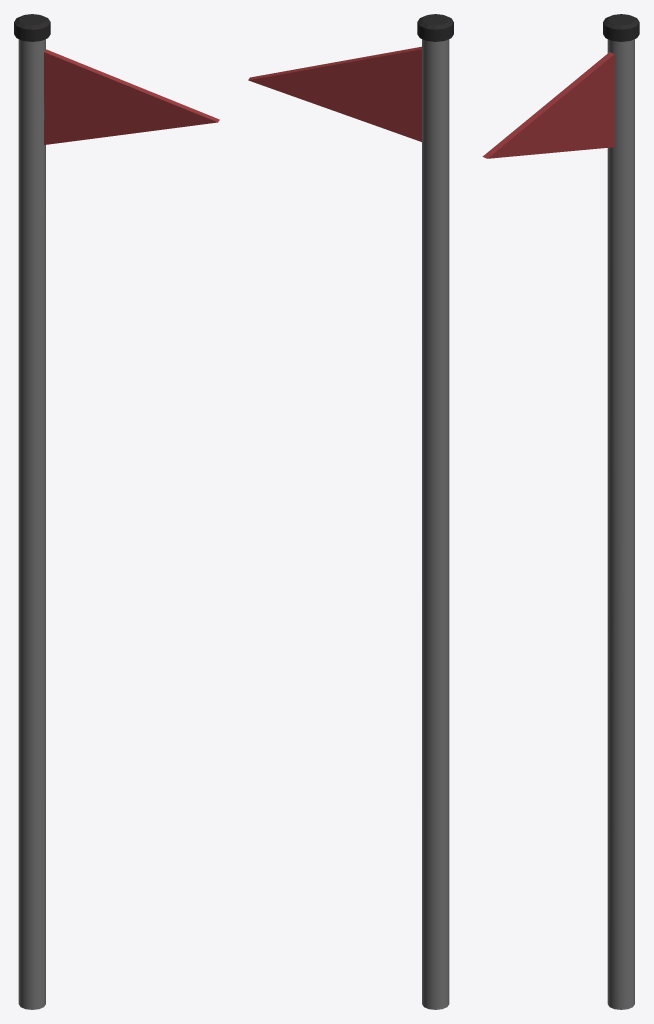
The model's file is red_flag.glb.
3 renders of one model, left to right at view 1: azimuth 30°, elevation 25°; view 2: azimuth 210°, elevation 25°; view 3: azimuth 270°, elevation 25°, orthographic.
Parts seen in each view (by area): view 1: ge_flag; view 2: ge_flag; view 3: ge_flag.
Part boxes in pixels (bbox=[...]): ge_flag: bbox=[14, 14, 219, 1009]; ge_flag: bbox=[248, 14, 453, 1009]; ge_flag: bbox=[482, 14, 639, 1009].
Bounding box in the file's own units: 0.2326 × 1.6 × 0.2322.
Materials: 1 (1 with a texture image).
